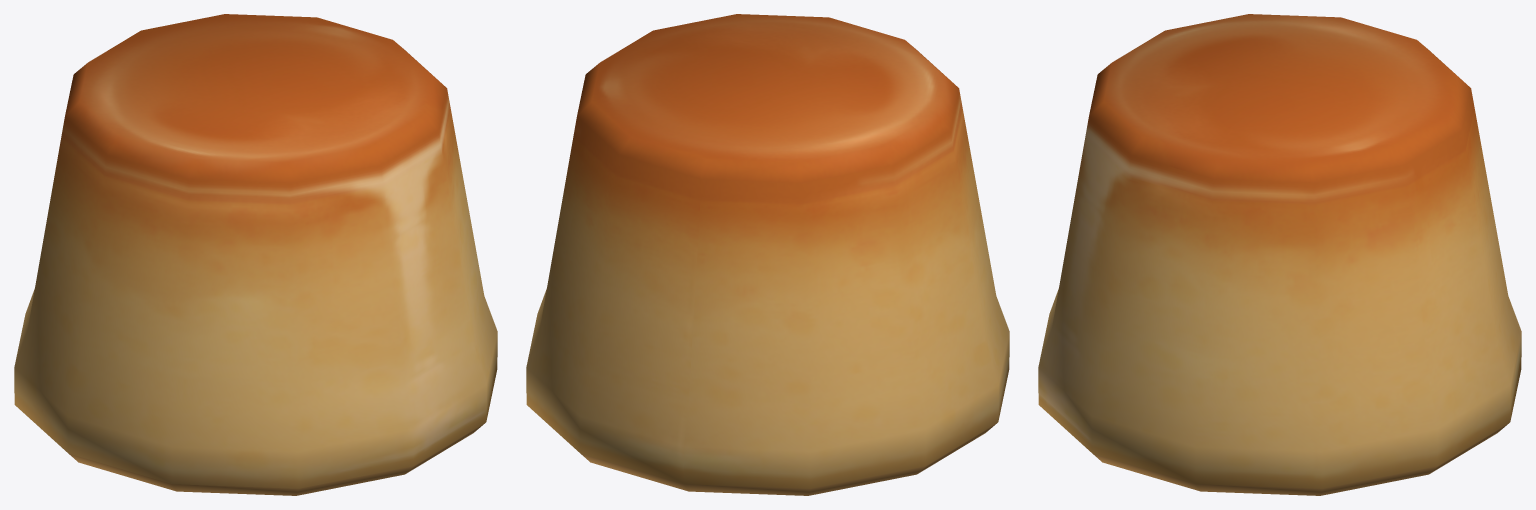
File: Pudding_3.FBX
3 views of the same model, side by side, from view 1: azimuth 30°, elevation 25°; view 2: azimuth 150°, elevation 25°; view 3: azimuth 270°, elevation 25° (orthographic).
Parts seen in each view (by area): view 1: Pudding_3; view 2: Pudding_3; view 3: Pudding_3.
Part boxes in pixels (x1=…): Pudding_3: x1=14, y1=14, x2=497, y2=495; Pudding_3: x1=526, y1=14, x2=1009, y2=495; Pudding_3: x1=1038, y1=14, x2=1521, y2=495.
Size of the model in its own units: 52.22 by 37.09 by 52.22.
